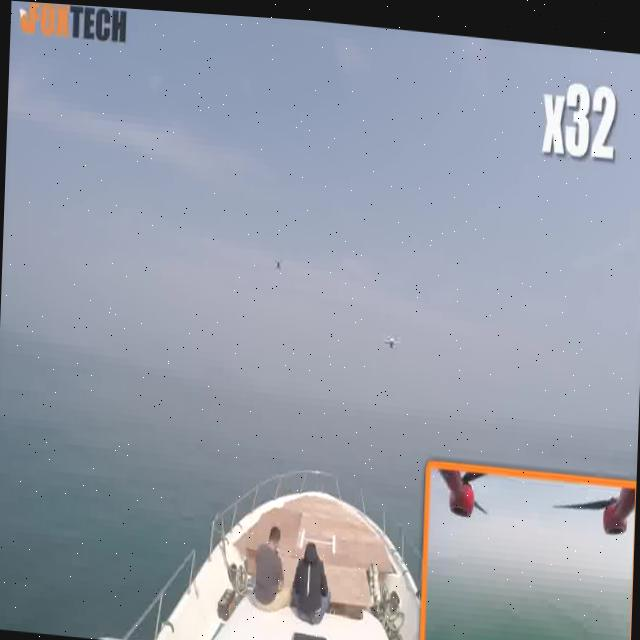drone: (383, 315, 403, 356), (270, 235, 288, 275)
